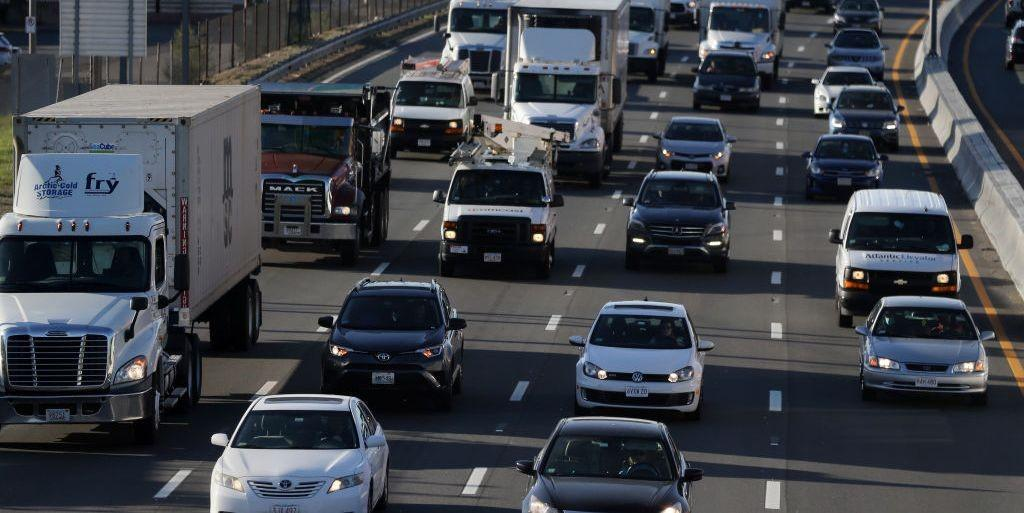HeavyVehicle: (1, 84, 265, 415), (260, 82, 397, 257), (504, 3, 635, 164), (436, 1, 509, 78), (693, 1, 790, 51)
LightVehicle: (209, 393, 393, 513), (518, 414, 700, 513), (323, 278, 474, 396), (574, 297, 711, 415), (860, 294, 997, 403), (839, 186, 965, 294), (623, 168, 732, 271), (398, 62, 460, 159), (804, 134, 880, 195), (690, 52, 763, 112), (657, 116, 731, 173), (827, 87, 902, 142), (828, 28, 888, 64)
